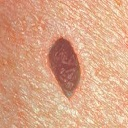Melanoma: (49, 38, 85, 97)
